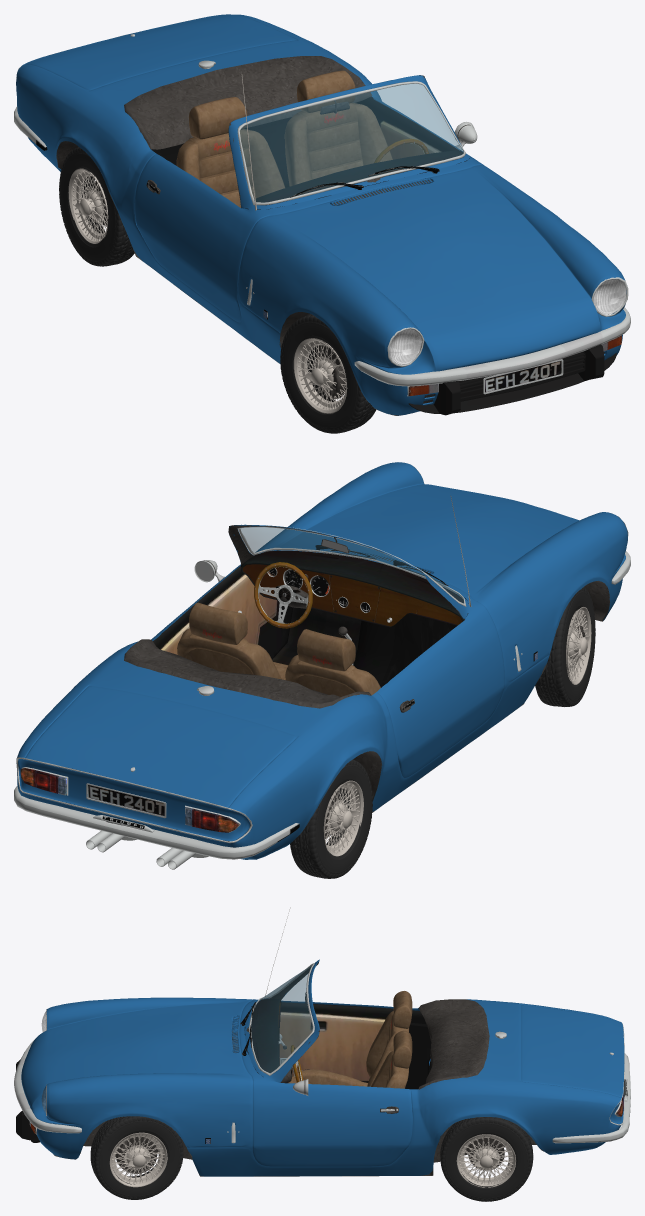
File: triumph_spitfire_mkiii-transformed.glb
3 renders of one model, top to bottom at view 1: azimuth 30°, elevation 25°; view 2: azimuth 150°, elevation 25°; view 3: azimuth 270°, elevation 25°, orthographic. The views are drawn at different scales.
Parts seen in each view (by area): view 1: ap_triumph_spitfire_0, ap_triumph_spitfire.002_1, ap_triumph_spitfire.007_5, ap_triumph_spitfire.006_4, ap_triumph_spitfire.003_2, ap_triumph_spitfire.010_9, carmainbody.005_14, ap_triumph_spitfire.004_3, carmainbody.002_13, ap_triumph_spitfire.009_8; view 2: ap_triumph_spitfire_0, ap_triumph_spitfire.004_3, ap_triumph_spitfire.007_5, ap_triumph_spitfire.006_4, ap_triumph_spitfire.003_2, carmainbody.005_14, ap_triumph_spitfire.002_1, ap_triumph_spitfire.008_6, carmainbody.001_12, ap_triumph_spitfire.011_10; view 3: ap_triumph_spitfire_0, ap_triumph_spitfire.003_2, ap_triumph_spitfire.004_3, ap_triumph_spitfire.006_4, ap_triumph_spitfire.002_1, carmainbody.005_14, ap_triumph_spitfire.007_5, ap_triumph_spitfire.010_9.
Boxes of the visible parts, x1,y1,x2,y2 form: ap_triumph_spitfire_0: (14, 14, 630, 415); ap_triumph_spitfire.002_1: (240, 84, 463, 202); ap_triumph_spitfire.007_5: (176, 70, 392, 207); ap_triumph_spitfire.006_4: (56, 56, 608, 415); ap_triumph_spitfire.003_2: (68, 168, 376, 433); ap_triumph_spitfire.010_9: (408, 344, 616, 415); carmainbody.005_14: (59, 147, 134, 266); ap_triumph_spitfire.004_3: (151, 96, 458, 187); carmainbody.002_13: (389, 279, 626, 364); ap_triumph_spitfire.009_8: (483, 359, 563, 394); ap_triumph_spitfire_0: (14, 462, 630, 859); ap_triumph_spitfire.004_3: (153, 566, 456, 687); ap_triumph_spitfire.007_5: (177, 602, 380, 696); ap_triumph_spitfire.006_4: (60, 525, 609, 859); ap_triumph_spitfire.003_2: (323, 587, 595, 856); carmainbody.005_14: (290, 759, 372, 878); ap_triumph_spitfire.002_1: (240, 527, 463, 603); ap_triumph_spitfire.008_6: (20, 768, 239, 832); carmainbody.001_12: (269, 568, 369, 611); ap_triumph_spitfire.011_10: (156, 809, 245, 869); ap_triumph_spitfire_0: (14, 959, 630, 1176); ap_triumph_spitfire.003_2: (90, 1116, 515, 1199); ap_triumph_spitfire.004_3: (279, 1002, 431, 1089); ap_triumph_spitfire.006_4: (53, 960, 543, 1176); ap_triumph_spitfire.002_1: (251, 965, 312, 1072); carmainbody.005_14: (440, 1117, 533, 1201); ap_triumph_spitfire.007_5: (288, 991, 412, 1088); ap_triumph_spitfire.010_9: (16, 1059, 39, 1142).
Size of the model in its own units: 1.7 by 1.61 by 4.26.
Materials: 16 (13 with a texture image).
